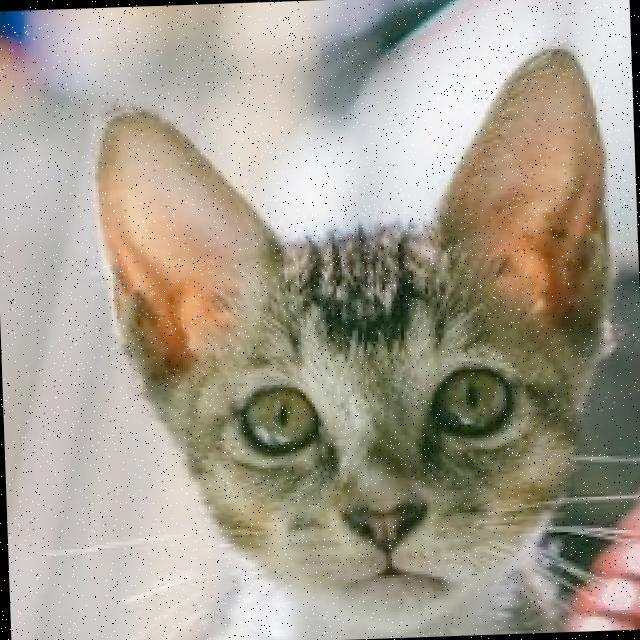Angry: (173, 307, 577, 640)
